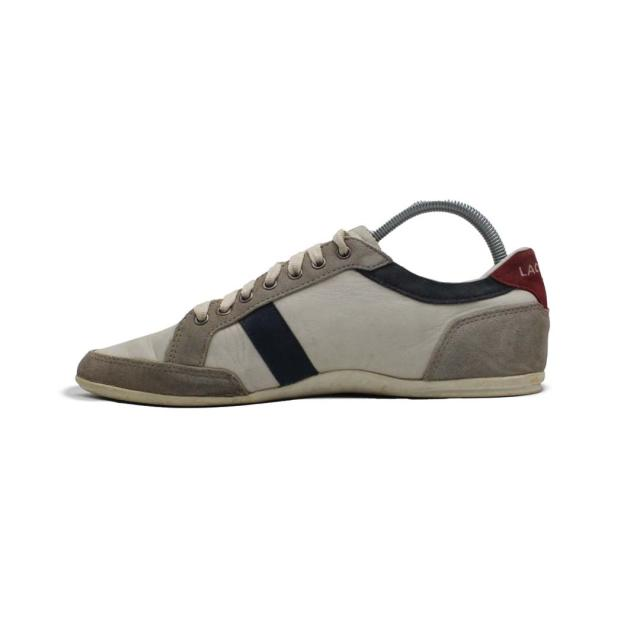heel: (528, 240, 568, 372)
midsole: (78, 381, 548, 411)
uppersole: (61, 221, 525, 386)
